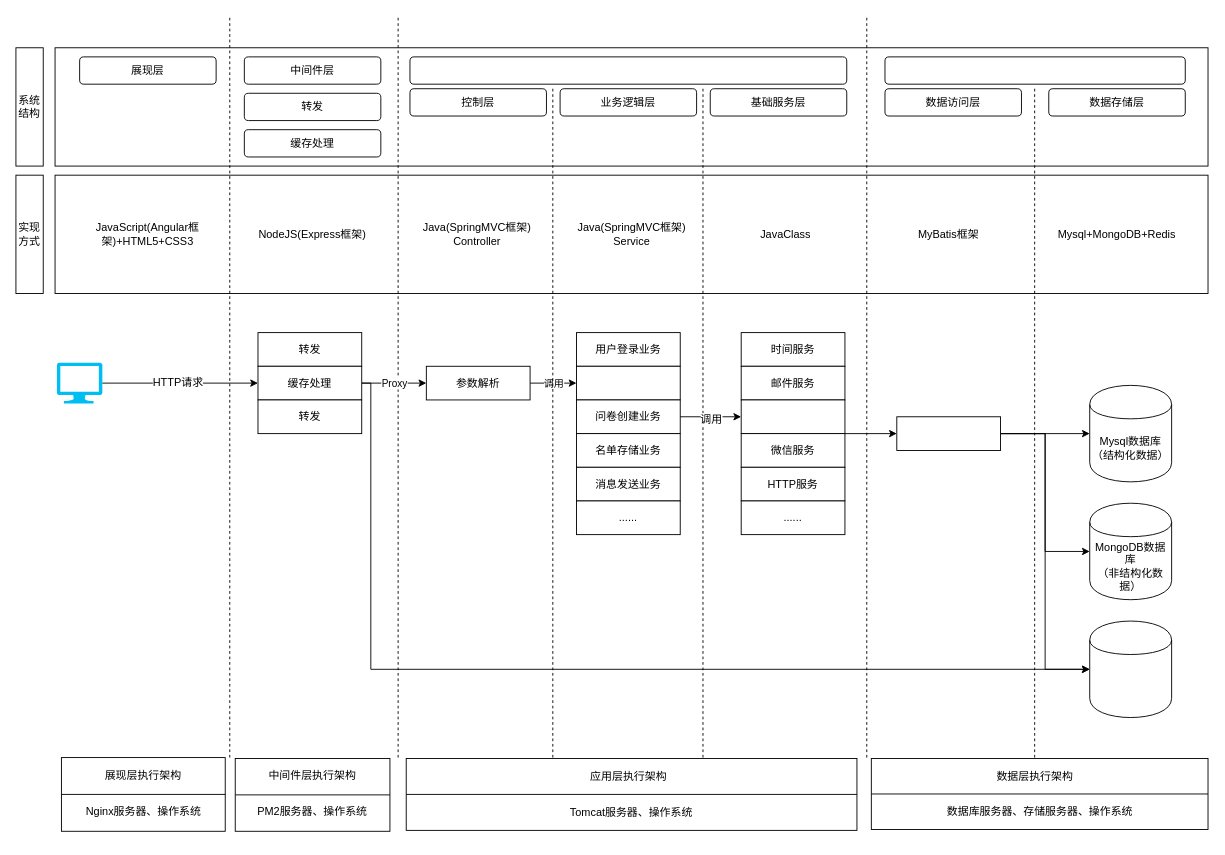
This 1225x855 diagram has some shape labels left out. Here are the shapes that lost their labels. From the top down, the box of each, then its label:
(409, 56, 847, 84): 应用层
(884, 56, 1185, 84): 数据层
(576, 365, 680, 400): 项目创建业务
(740, 399, 845, 434): 短信服务
(896, 416, 1001, 450): 数据库访问DAO
(1089, 620, 1172, 718): Redis数据库 （缓存数据）
